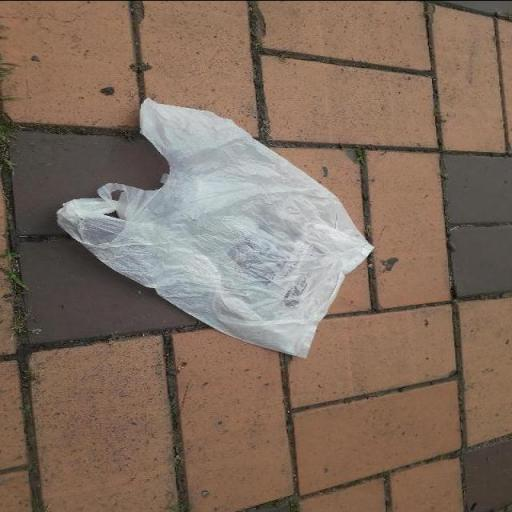plastic-bag: (51, 89, 371, 354)
